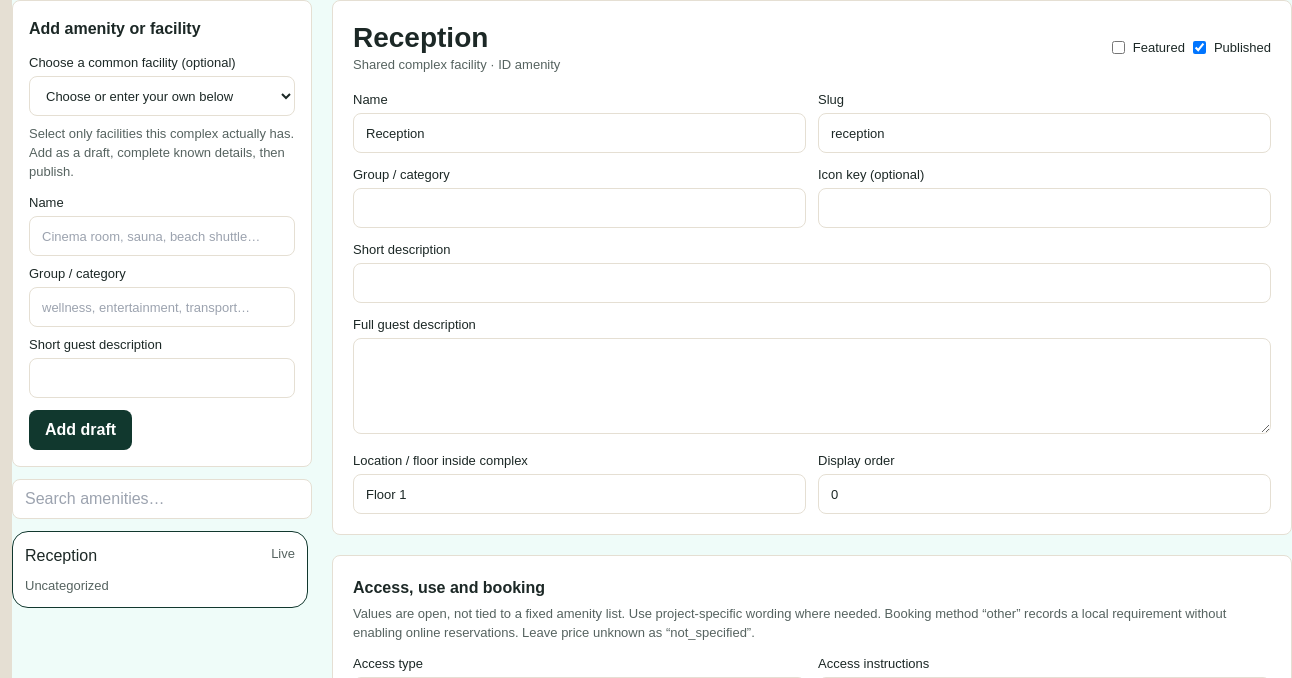
Test: complex amenity editing › lets staff choose a common facility without inventing hours or saving immediately
The image size is (1292, 678).
Step 1. Select "Sauna" in the dropdown labelled "Choose a common facility (optional)" → (162, 96), box [29,76,295,116]
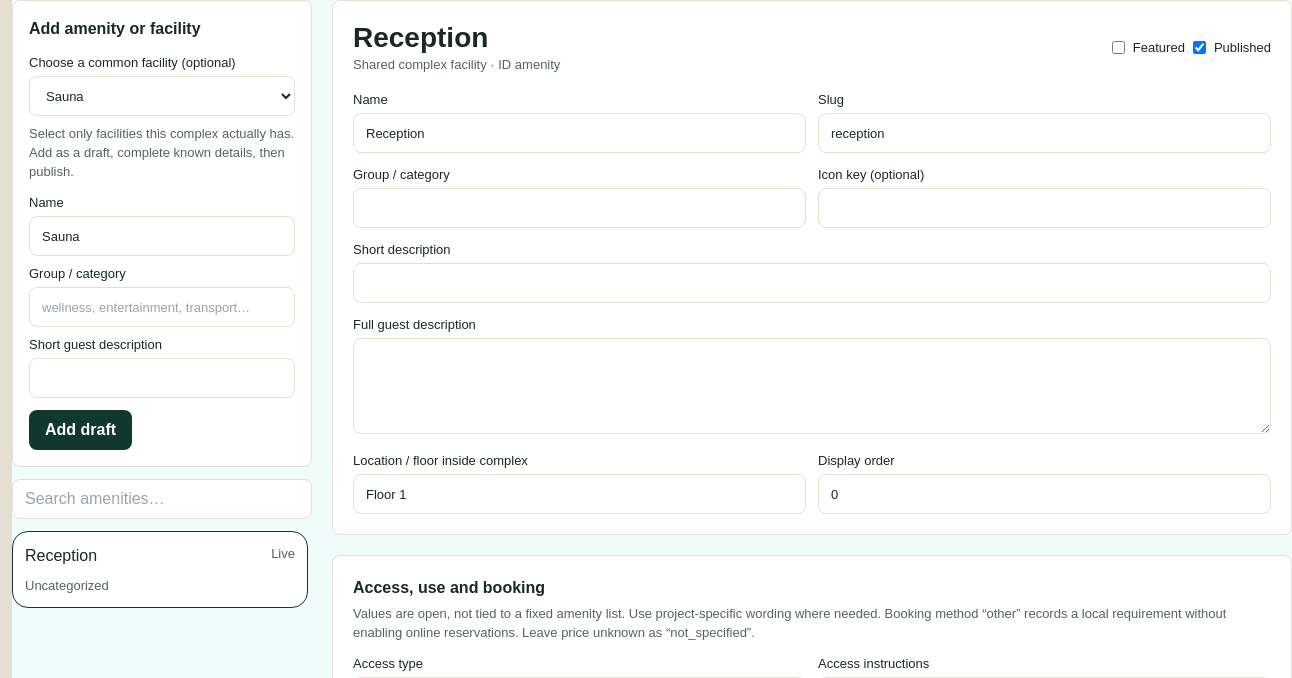
Now the field labelled "Name" below "Choose a common facility (optional)" holds "Sauna", box [29,216,295,256]
